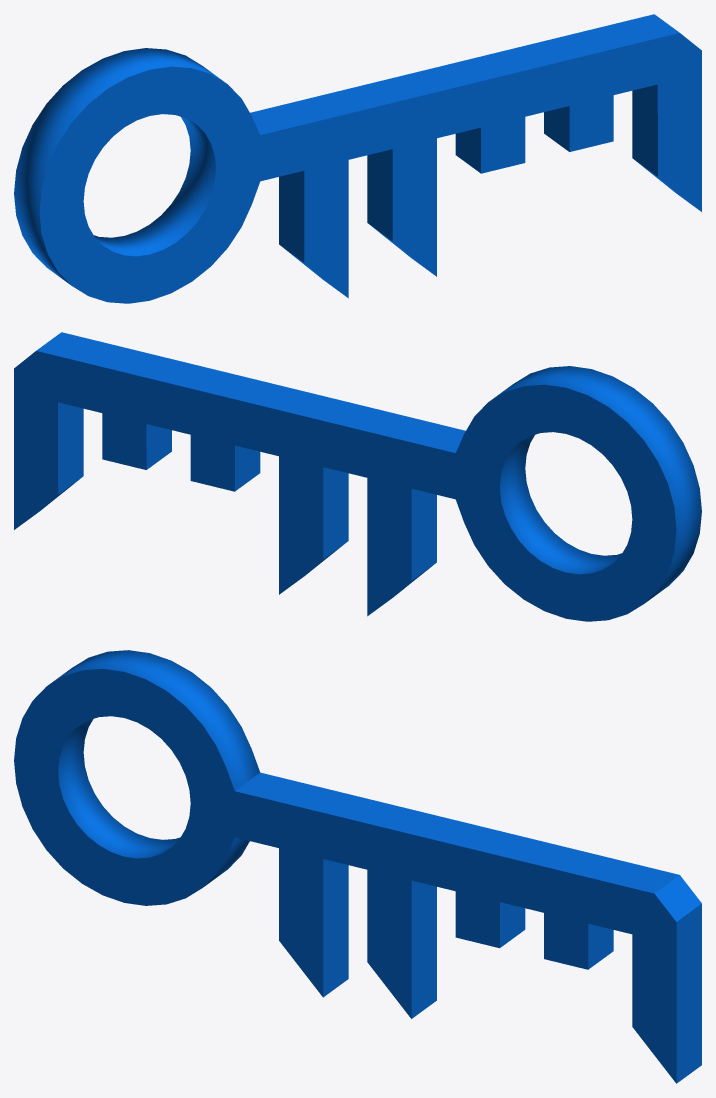
The model's file is Items.fbx_Key_18.fbx.
The picture shows the model from 3 angles, top to bottom: view 1: azimuth 30°, elevation 25°; view 2: azimuth 150°, elevation 25°; view 3: azimuth 330°, elevation 25°; orthographic projection.
Visible parts, largest first — view 1: Key 18; view 2: Key 18; view 3: Key 18.
Part boxes in pixels (x1,y1,x2,y2): Key 18: (14, 14, 701, 303); Key 18: (14, 332, 701, 621); Key 18: (14, 650, 701, 1083).
Bounding box in the file's own units: 0.3 × 0.12 × 0.02.
